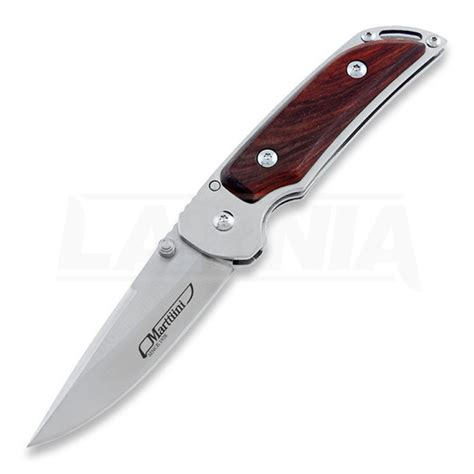knife: (27, 22, 448, 448)
